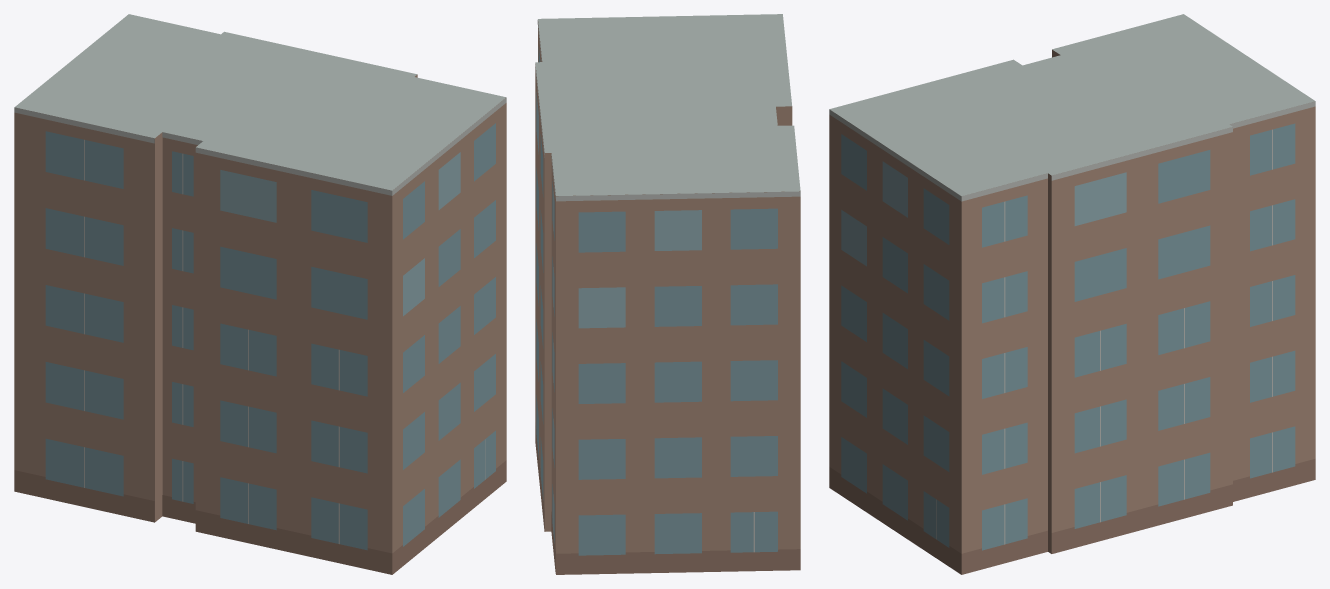
The model's file is survey-upis-32936049.glb.
3 views of the same model, side by side, from view 1: azimuth 30°, elevation 25°; view 2: azimuth 150°, elevation 25°; view 3: azimuth 270°, elevation 25° (orthographic).
Parts seen in each view (by area): view 1: survey-upis-32936049.tmp; view 2: survey-upis-32936049.tmp; view 3: survey-upis-32936049.tmp.
Part boxes in pixels (bbox=[...]): survey-upis-32936049.tmp: bbox=[14, 14, 506, 574]; survey-upis-32936049.tmp: bbox=[535, 14, 800, 574]; survey-upis-32936049.tmp: bbox=[829, 14, 1315, 574].
Size of the model in its own units: 18.29 by 17.7 by 20.62.
